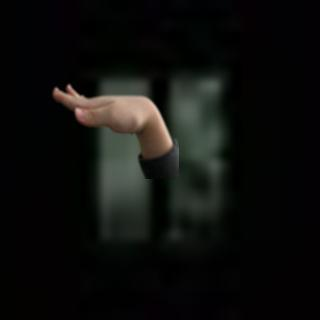Wait: (41, 79, 164, 140)
